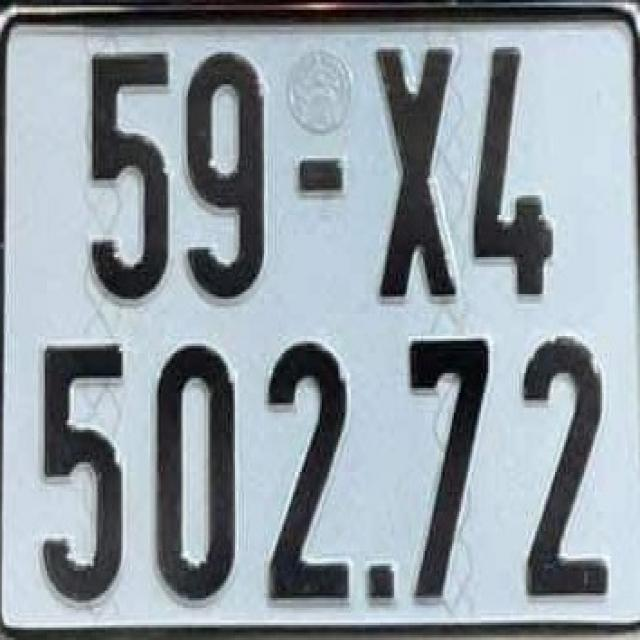0: (148, 334, 244, 606)
2: (512, 322, 618, 606), (258, 327, 362, 610)
4: (467, 36, 562, 306)
5: (32, 331, 130, 606), (80, 36, 178, 306)
7: (398, 327, 493, 606)
9: (178, 40, 278, 306)
X: (367, 40, 461, 302)
